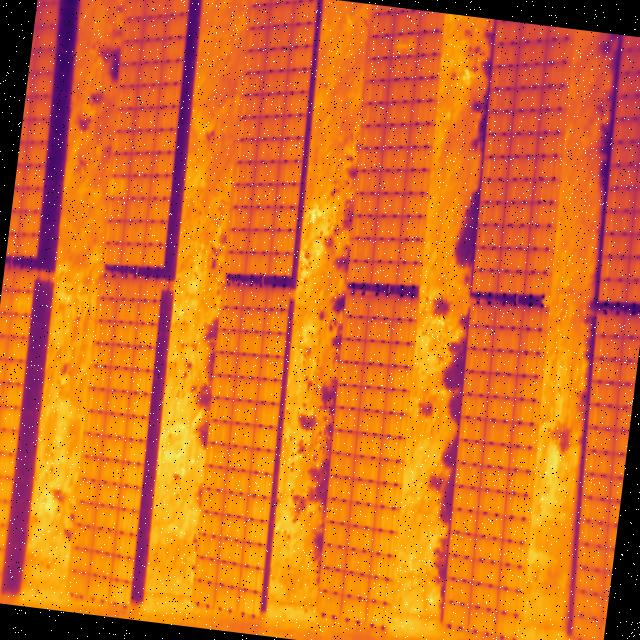Hotspot: (392, 34, 417, 55), (109, 176, 126, 195)
